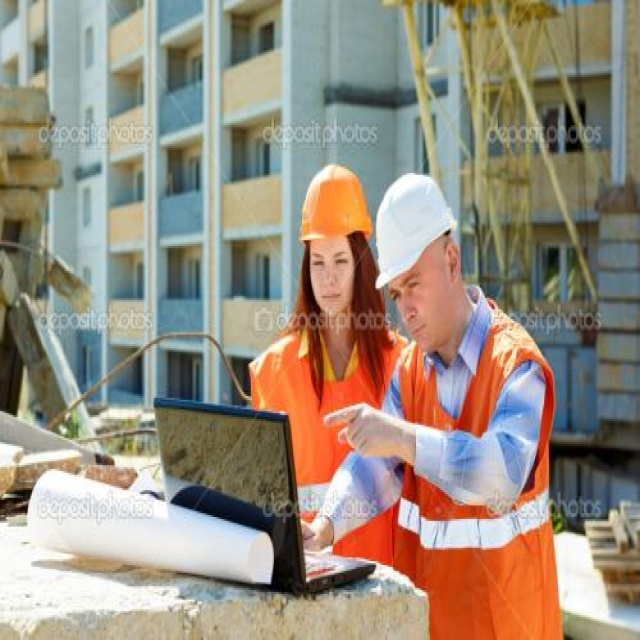Helmet: (366, 166, 487, 359), (291, 154, 378, 327)
Reflective vest: (393, 317, 569, 640), (241, 323, 411, 569)
